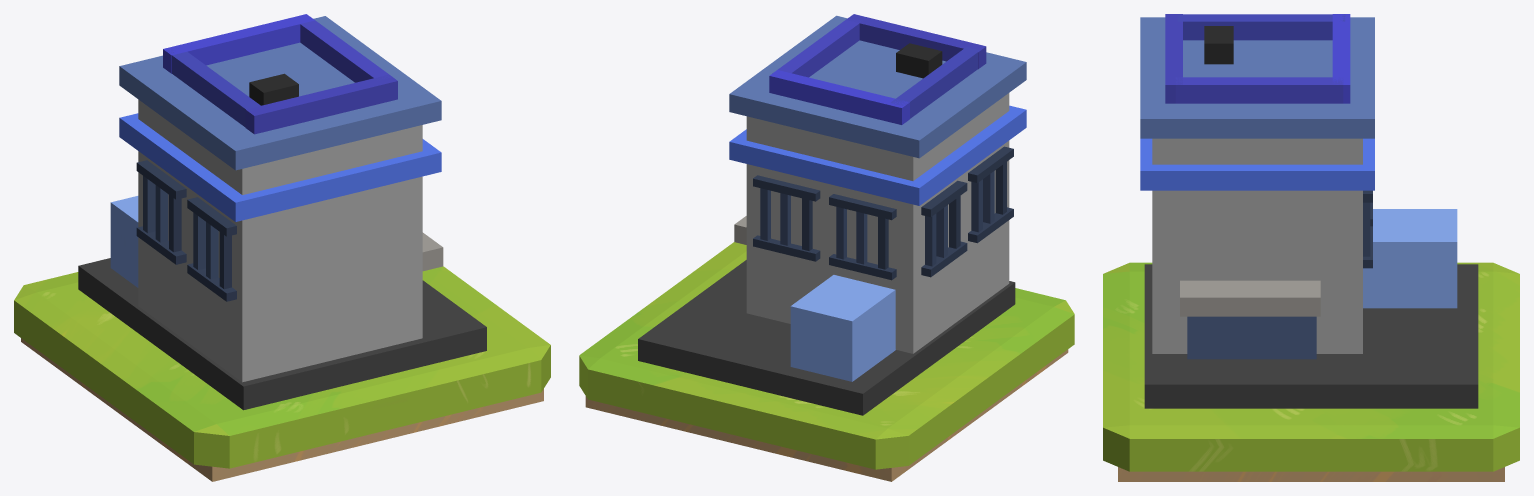
Rendered from policestationtile.fbx.
3 renders of one model, left to right at view 1: azimuth 30°, elevation 25°; view 2: azimuth 150°, elevation 25°; view 3: azimuth 270°, elevation 25°, orthographic. The views are drawn at different scales.
Visible parts, largest first — view 1: Cube.002, Cube.001, Cube.003, Cube.010, Cube.004, Cube, Cube.005, Cube.014, Cube.015, Cube.006, Cube.007, Cube.008 (+3 smaller); view 2: Cube.001, Cube.002, Cube.010, Cube.003, Cube.011, Cube.004, Cube, Cube.006, Cube.012, Cube.013, Cube.015, Cube.014 (+4 smaller); view 3: Cube.001, Cube.002, Cube.010, Cube.003, Cube.011, Cube.004, Cube.016, Cube.017, Cube.008, Cube, Cube.007, Cube.006 (+3 smaller).
Part boxes in pixels (x1,y1,x2,y2): Cube.002: (138,99,422,382); Cube.001: (14,266,550,468); Cube.003: (119,16,441,170); Cube.010: (78,258,486,410); Cube.004: (119,113,441,221); Cube: (21,338,543,481); Cube.005: (245,74,397,134); Cube.014: (136,160,186,264); Cube.015: (187,197,236,301); Cube.006: (163,14,314,73); Cube.007: (166,49,262,127); Cube.008: (300,19,392,82); Cube.001: (579,242,1074,469); Cube.002: (746,93,1009,353); Cube.010: (638,260,1015,415); Cube.003: (729,15,1026,158); Cube.011: (790,275,895,381); Cube.004: (729,105,1026,205); Cube: (585,349,1068,481); Cube.006: (769,70,909,124); Cube.012: (829,194,896,280); Cube.013: (753,175,820,261); Cube.015: (968,146,1013,243); Cube.014: (921,180,967,277); Cube.001: (1103,262,1519,471); Cube.002: (1152,138,1362,353); Cube.010: (1144,264,1478,408); Cube.003: (1140,17,1374,138); Cube.011: (1363,209,1457,308); Cube.004: (1140,138,1374,190); Cube.016: (1187,316,1316,359); Cube.017: (1180,280,1320,316); Cube.008: (1175,77,1343,103); Cube: (1118,467,1504,481); Cube.007: (1177,14,1345,40); Cube.006: (1332,14,1350,103).
Bounding box in the file's own units: 108 × 96.54 × 108.
